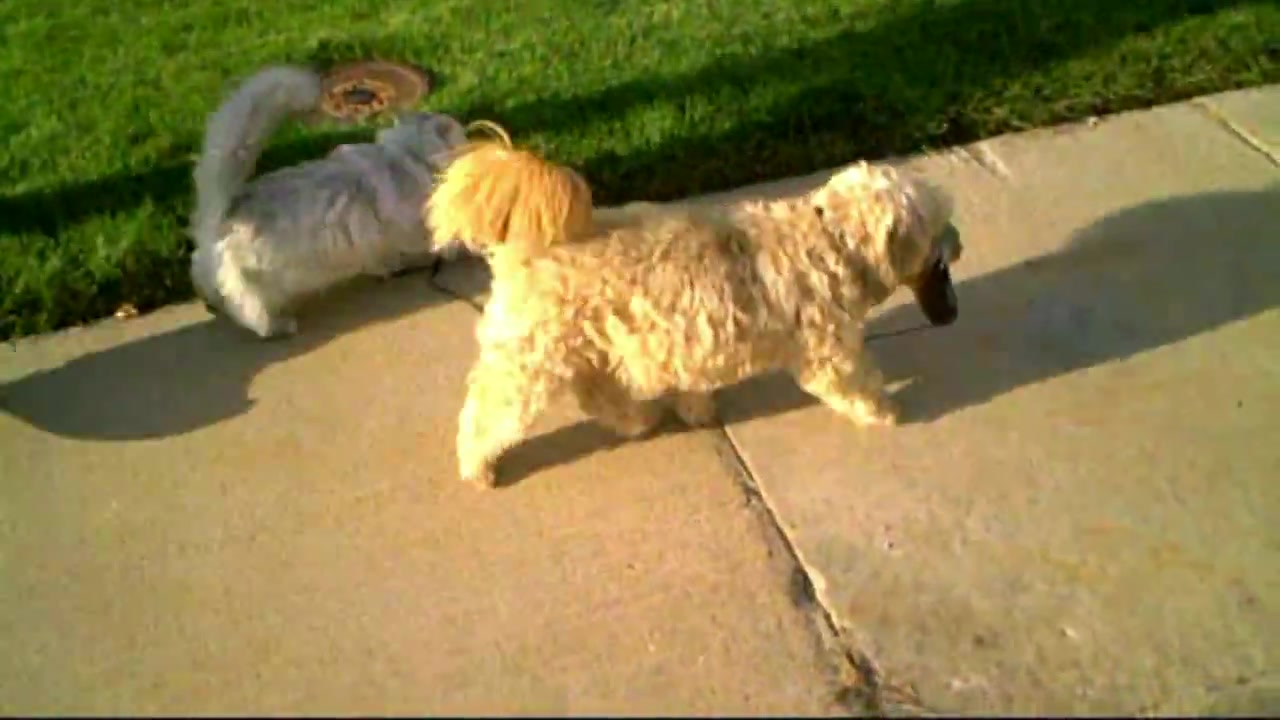dog: (420, 135, 964, 492)
